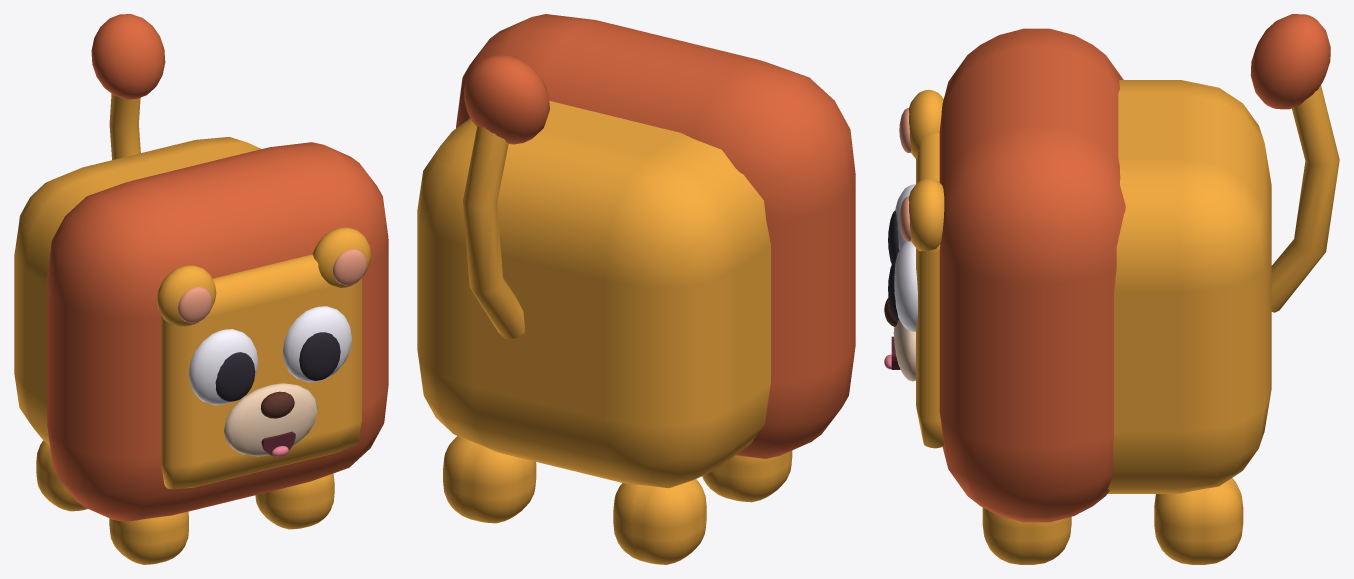
Rendered from pet-lion.glb.
3 renders of one model, left to right at view 1: azimuth 30°, elevation 25°; view 2: azimuth 150°, elevation 25°; view 3: azimuth 270°, elevation 25°, orthographic. The views are drawn at different scales.
Visible parts, largest first — view 1: mane, face, body, tail_tuft, muzzle, foot_L_front, foot_R_front, eye_white_-1, eye_white_1, ear_-1, tail, ear_1 (+7 smaller); view 2: body, mane, tail, foot_L_back, foot_R_back, tail_tuft, foot_L_front; view 3: mane, body, tail, foot_R_back, tail_tuft, face, foot_R_front, ear_1, eye_white_1, ear_-1, muzzle.
Part boxes in pixels (<box>): mane: <box>47,142,388,521</box>; face: <box>161,254,361,489</box>; body: <box>14,137,260,445</box>; tail_tuft: <box>91,14,165,99</box>; muzzle: <box>224,383,317,456</box>; foot_L_front: <box>109,512,188,564</box>; foot_R_front: <box>255,473,334,529</box>; eye_white_-1: <box>188,329,257,405</box>; eye_white_1: <box>283,306,351,382</box>; ear_-1: <box>156,265,216,326</box>; tail: <box>109,94,140,159</box>; ear_1: <box>312,227,371,287</box>; body: <box>417,101,770,488</box>; mane: <box>456,14,855,458</box>; tail: <box>463,126,524,338</box>; foot_L_back: <box>613,479,706,564</box>; foot_R_back: <box>443,436,536,523</box>; tail_tuft: <box>463,55,549,144</box>; foot_L_front: <box>702,450,792,502</box>; mane: <box>939,28,1125,522</box>; body: <box>1107,80,1271,493</box>; tail: <box>1271,85,1339,312</box>; foot_R_back: <box>1154,478,1243,564</box>; tail_tuft: <box>1250,14,1330,109</box>; face: <box>916,133,943,448</box>; foot_R_front: <box>982,508,1071,564</box>; ear_1: <box>908,178,944,251</box>; eye_white_1: <box>894,241,917,332</box>; ear_-1: <box>908,89,943,158</box>; muzzle: <box>893,319,915,381</box>.
Size of the model in its own units: 1.35 by 1.77 by 1.43.
